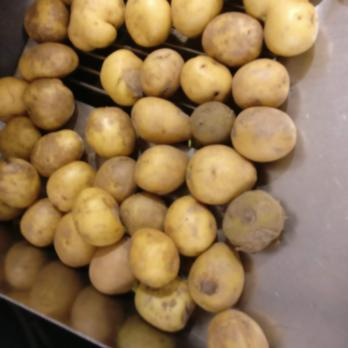Floury potato: (27, 0, 315, 276), (129, 281, 270, 348), (0, 70, 35, 219)
